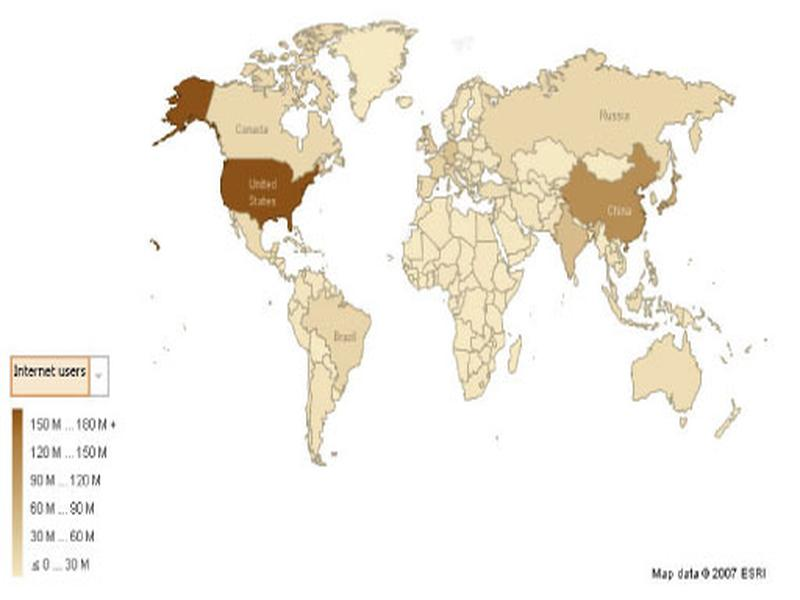legend: (7, 352, 118, 580)
